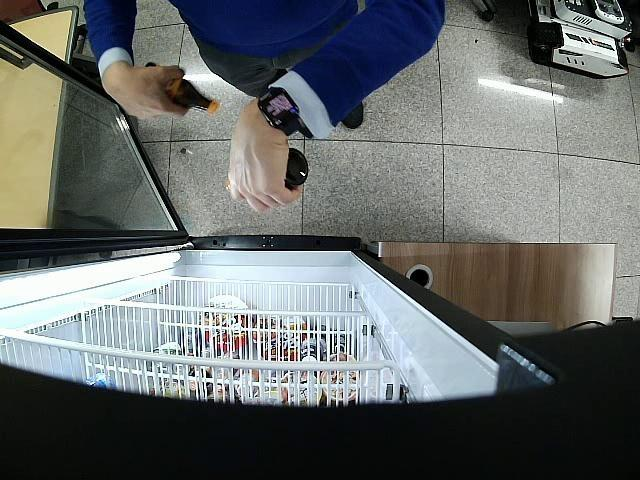17_vita500: (145, 60, 220, 114), (223, 147, 310, 190)
